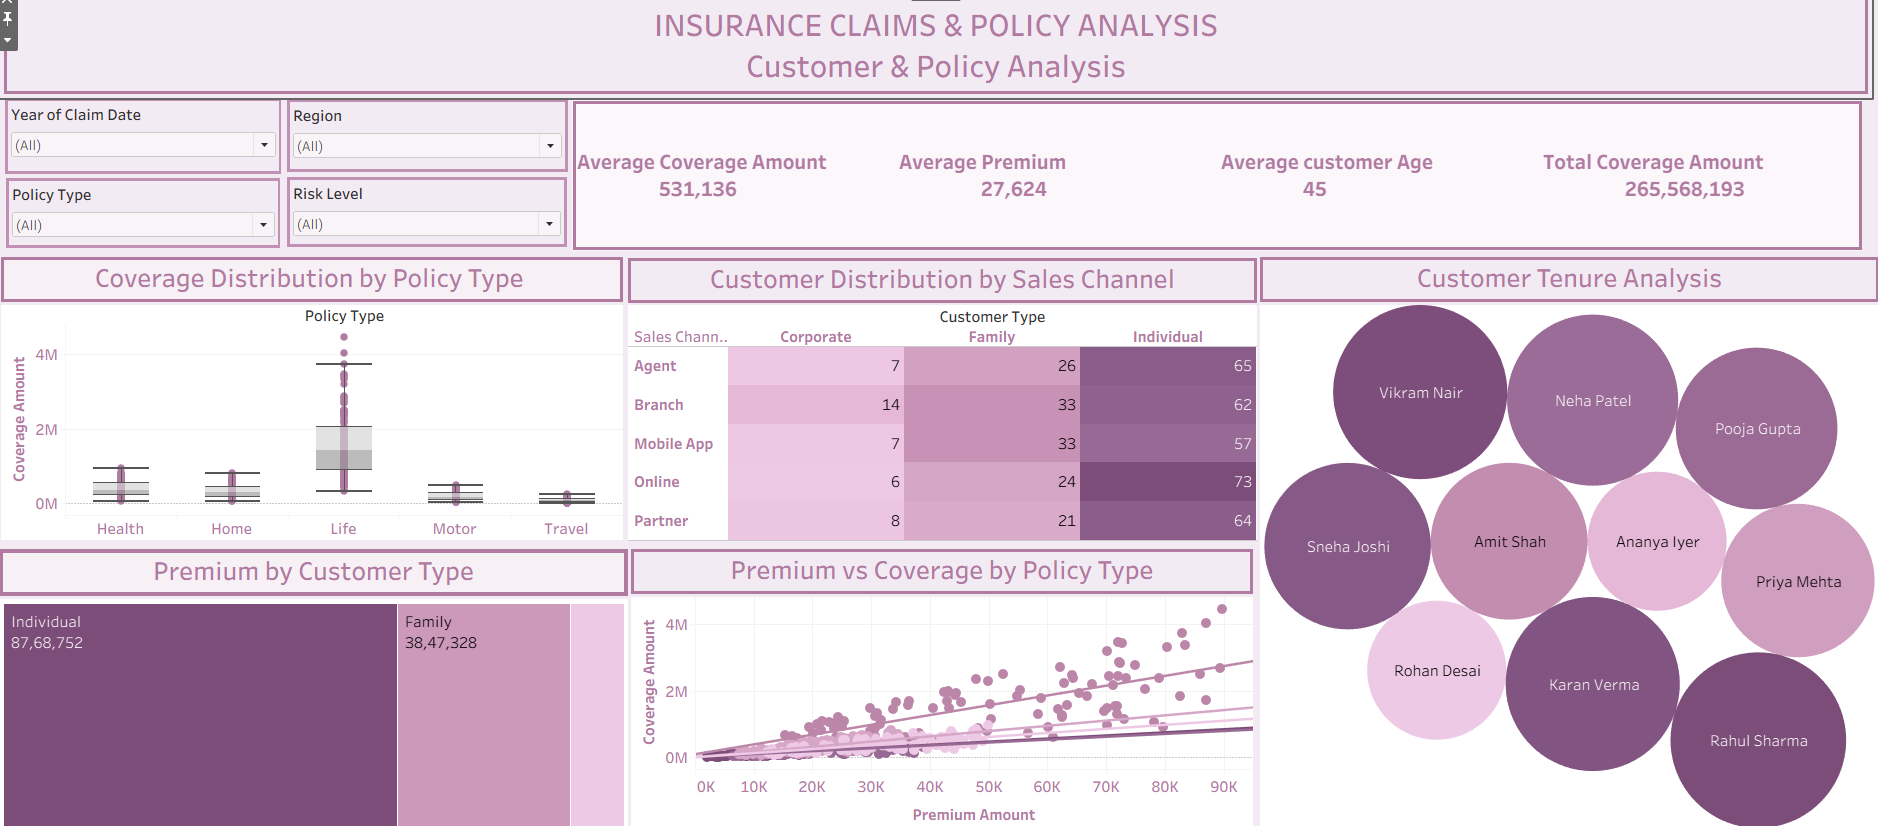

What the dashboard file says about the page in this screenshot:
{"tool":"tableau","page":{"name":"customer and policy analysis","canvas":[1000,1000],"units":"permille","ordinal":2},"visuals":[{"type":"title","box":[4.8,9.4,990.3,126.9]},{"type":"filter","title":"Coverage by Policy Type","param":"[federated.103em7t14guc9o1725shg11rdh6o].[yr:Claim Date:ok]","box":[6.6,136.3,146.7,89.3]},{"type":"filter","title":"Coverage by Policy Type","param":"[federated.103em7t14guc9o1725shg11rdh6o].[none:Region:nk]","box":[156.3,137.5,149.1,85.8]},{"type":"worksheet","title":"dashboard 3 kpi","mark":"Automatic","box":[307.2,138.7,684.4,177.4]},{"type":"filter","title":"Coverage by Policy Type","param":"[federated.103em7t14guc9o1725shg11rdh6o].[none:Risk Level:nk]","box":[156.3,229.1,148.5,82.3]},{"type":"filter","title":"Coverage by Policy Type","param":"[federated.103em7t14guc9o1725shg11rdh6o].[none:Policy Type:nk]","box":[7.2,230.3,145.4,82.3]},{"type":"worksheet","title":"Coverage by Policy Type","mark":"Circle","rows":["Coverage Amount"],"cols":["Policy Type"],"box":[4.8,323.2,329.5,332.6]},{"type":"worksheet","title":"Customer Tenure Analysis","mark":"Circle","box":[671.7,323.2,327.7,671]},{"type":"worksheet","title":"Customer Distribution by Sales Channel","mark":"Square","rows":["Sales Channel"],"cols":["Customer Type"],"box":[336.8,324.3,333.1,332.6]},{"type":"worksheet","title":"Premium by Customer Type","mark":"Automatic","box":[3.6,666.3,333.1,332.6]},{"type":"worksheet","title":"Premium vs Coverage by Policy Type","mark":"Circle","rows":["Coverage Amount"],"cols":["Premium Amount"],"box":[338.6,666.3,329.5,332.6]}]}

Visuals, with their boxes on the dashboard's canvas, which has no fixed pixel size, in thousandths of its width and height (x1, y1, x2, y2). These are canvas units, not pixel positions in the 1878x826 screenshot, which may show the page scaled, cropped or inside an application window:
title: (left=5, top=9, right=995, bottom=136)
"Coverage by Policy Type" filter: (left=7, top=136, right=153, bottom=226)
"Coverage by Policy Type" filter: (left=156, top=138, right=305, bottom=223)
"dashboard 3 kpi" worksheet: (left=307, top=139, right=992, bottom=316)
"Coverage by Policy Type" filter: (left=156, top=229, right=305, bottom=311)
"Coverage by Policy Type" filter: (left=7, top=230, right=153, bottom=313)
"Coverage by Policy Type" worksheet (Circle marks): (left=5, top=323, right=334, bottom=656)
"Customer Tenure Analysis" worksheet (Circle marks): (left=672, top=323, right=999, bottom=994)
"Customer Distribution by Sales Channel" worksheet (Square marks): (left=337, top=324, right=670, bottom=657)
"Premium by Customer Type" worksheet: (left=4, top=666, right=337, bottom=999)
"Premium vs Coverage by Policy Type" worksheet (Circle marks): (left=339, top=666, right=668, bottom=999)
